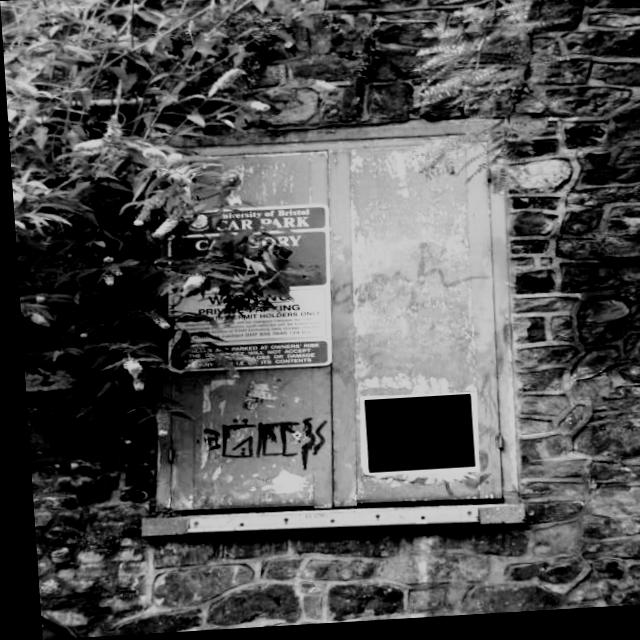qr_code: (358, 398, 469, 476)
